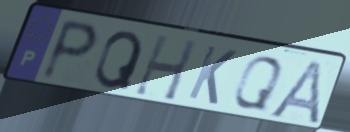A: (265, 57, 327, 127)
H: (131, 32, 200, 104)
K: (185, 43, 240, 107)
P: (37, 16, 101, 84)
Q: (92, 30, 146, 93), (229, 54, 286, 113)
